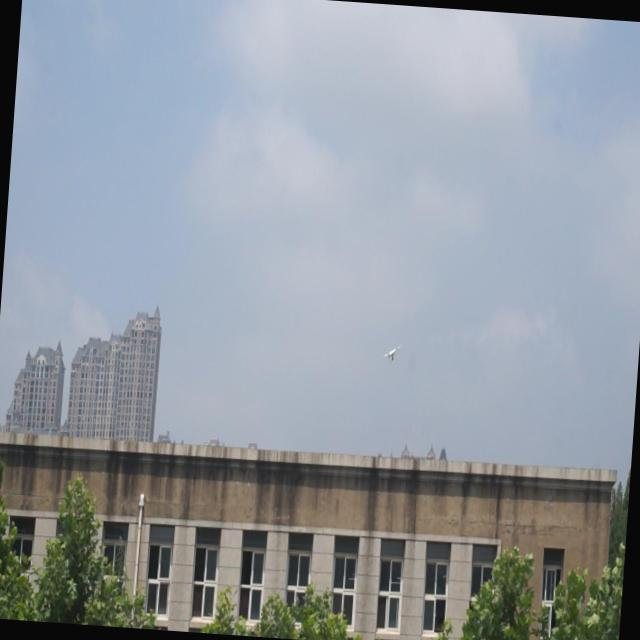drone: (383, 342, 401, 363)
